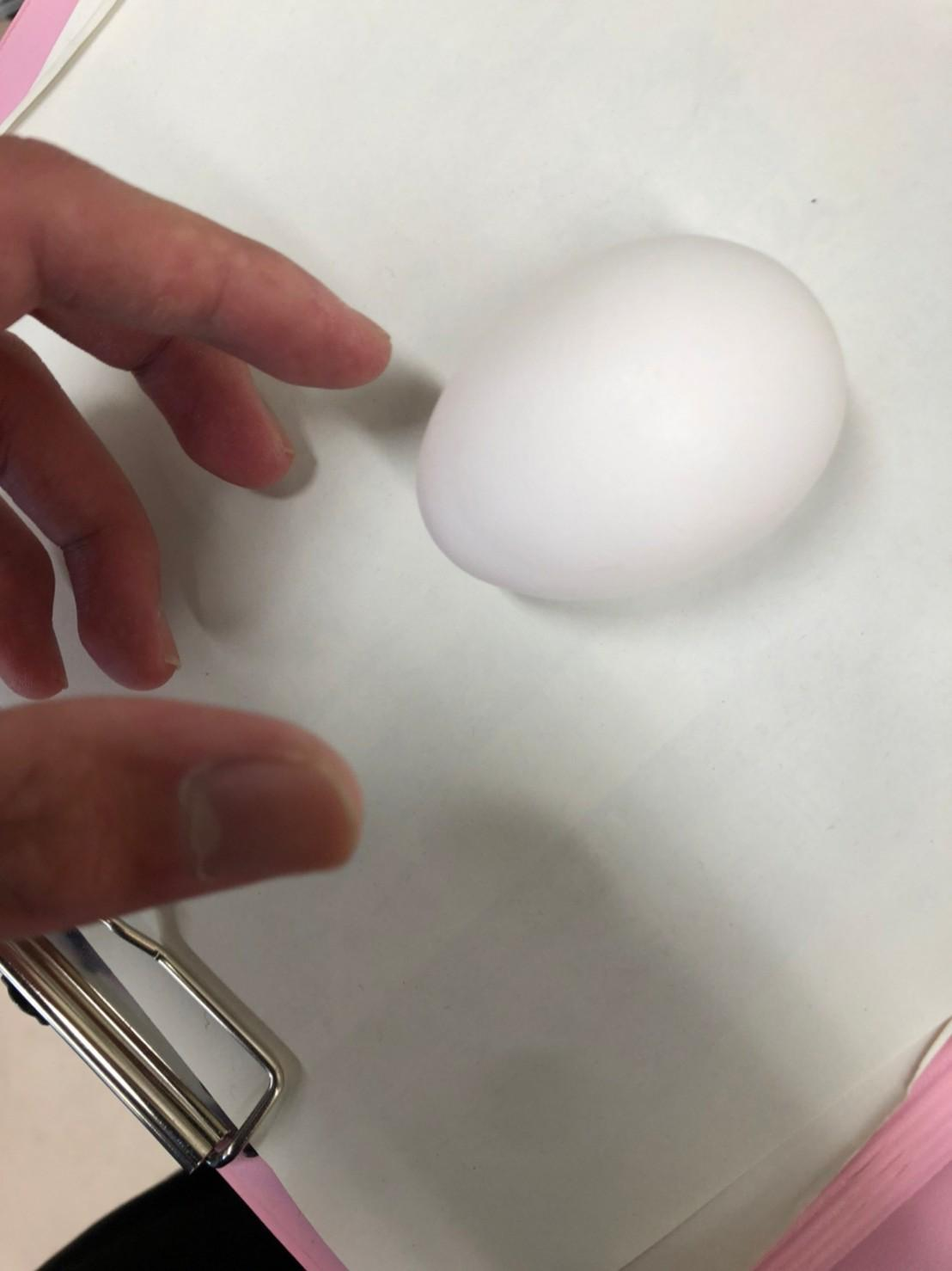egg: (404, 222, 855, 613)
